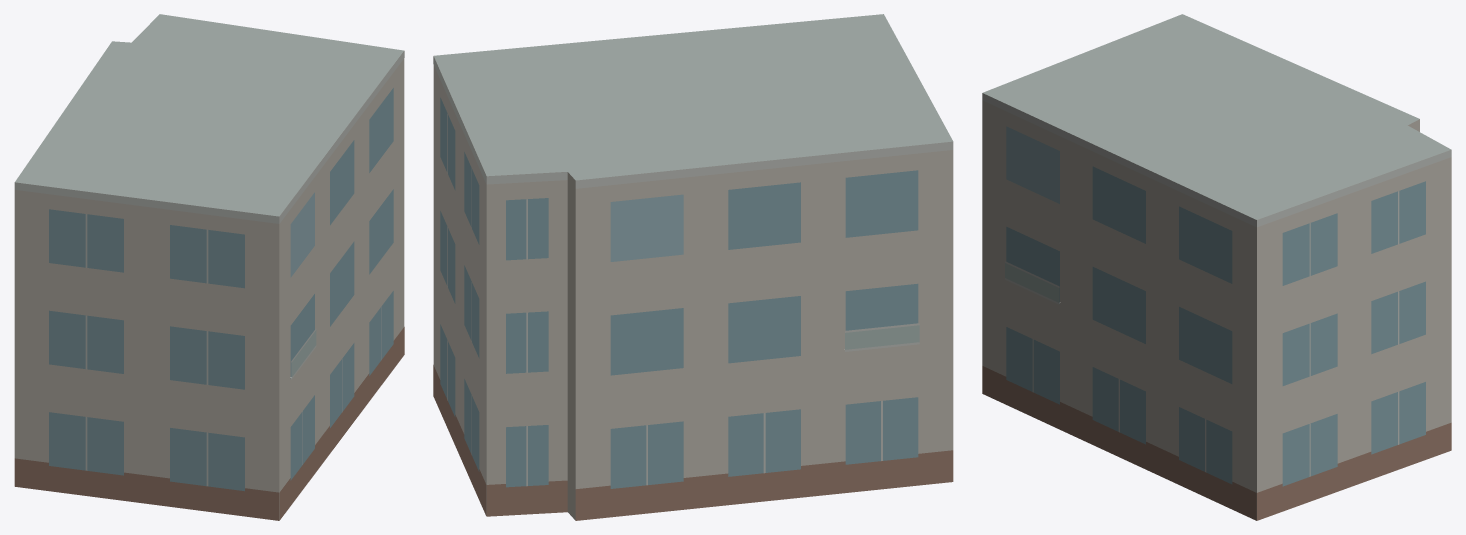
File: survey-upis-32638317.glb
3 renders of one model, left to right at view 1: azimuth 30°, elevation 25°; view 2: azimuth 150°, elevation 25°; view 3: azimuth 270°, elevation 25°, orthographic. The views are drawn at different scales.
Visible parts, largest first — view 1: survey-upis-32638317.tmp; view 2: survey-upis-32638317.tmp; view 3: survey-upis-32638317.tmp.
Part boxes in pixels (<box>): survey-upis-32638317.tmp: <box>14,14,404,520</box>; survey-upis-32638317.tmp: <box>433,14,953,520</box>; survey-upis-32638317.tmp: <box>982,14,1451,520</box>.
Bounding box in the file's own units: 14.7 × 10 × 14.15.
